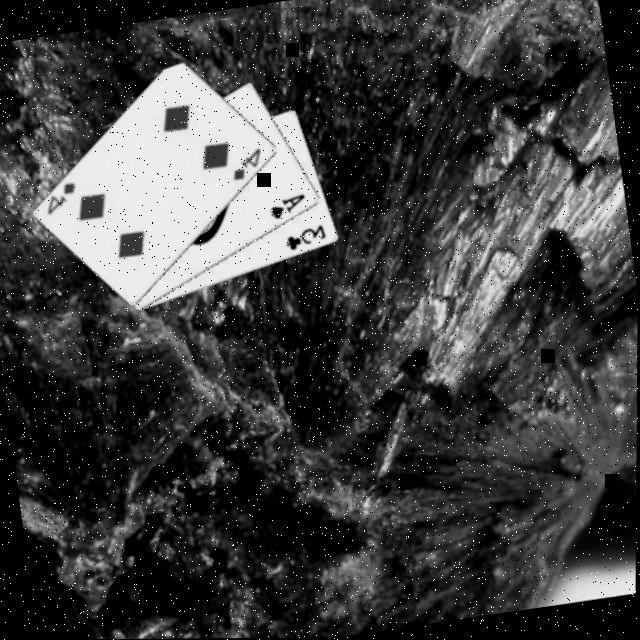3C: (282, 220, 331, 253)
4D: (41, 176, 84, 216), (227, 142, 269, 182)
AS: (267, 188, 312, 222)
